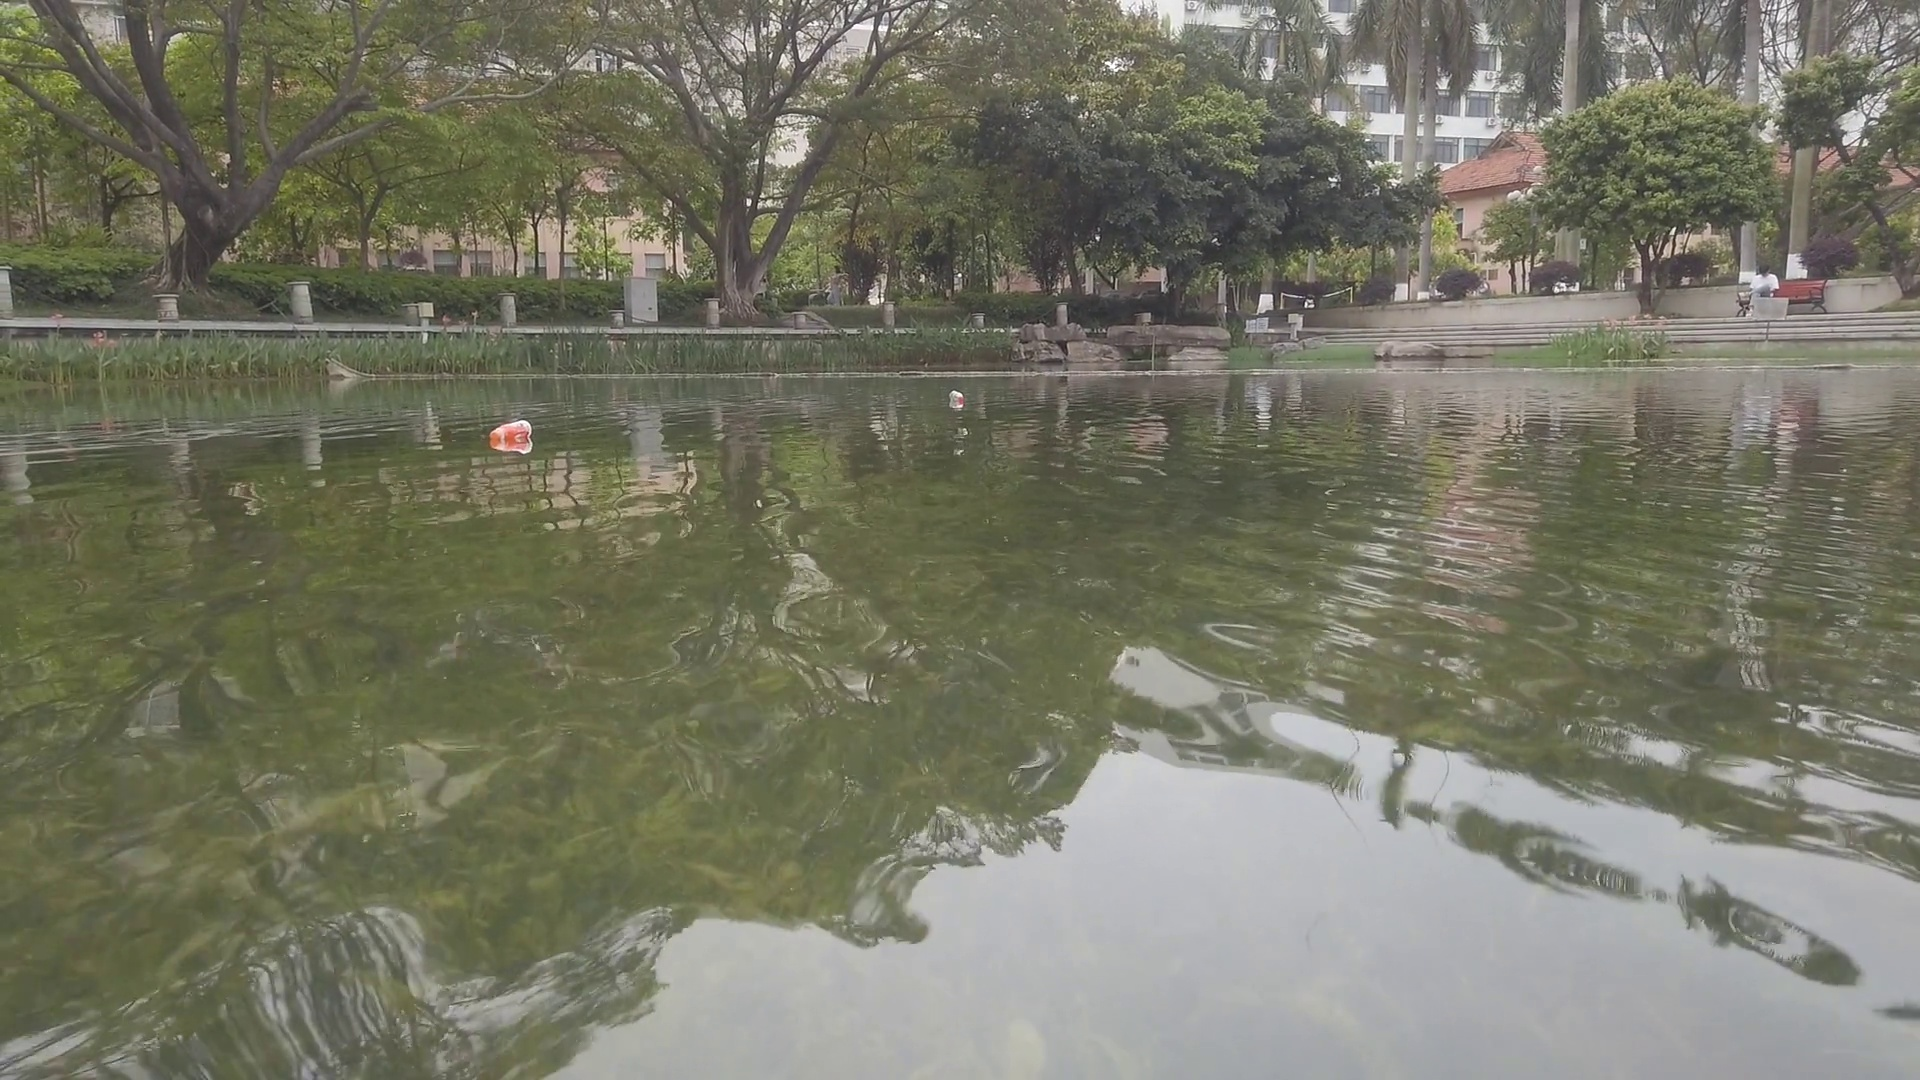bottle: (491, 419, 531, 451), (945, 389, 968, 406)
